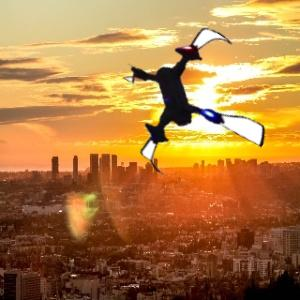drone: (115, 24, 276, 185)
